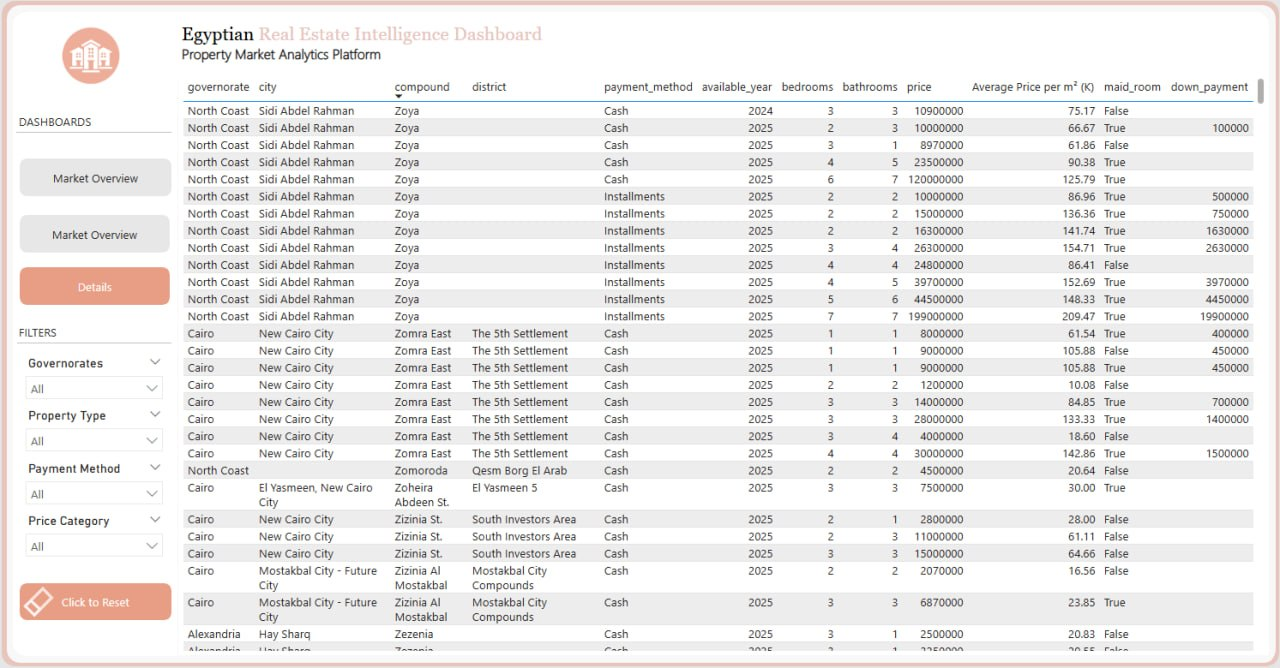

What the dashboard file says about the page in this screenshot:
{"tool":"powerbi","page":{"name":"Details","canvas":[1520,800],"ordinal":2},"visuals":[{"type":"shape","box":[17.2,10.3,1489.7,777],"z":0},{"type":"shape","box":[23,14.9,1480.5,767.8],"z":1000},{"type":"shape","box":[29.9,23,1465.5,751.7],"z":2000},{"type":"shape","box":[221.9,95.1,1279,687.5],"z":3000},{"type":"image","box":[37.9,32.2,174.7,87.4],"z":7000},{"type":"textbox","box":[221.9,31.4,521.2,63.8],"z":13000},{"type":"textbox","box":[32.2,136.8,300,48.3],"z":14000},{"type":"shape","box":[34.5,75.9,180.5,174.7],"z":15000},{"type":"textbox","box":[32.2,382.8,300,48.3],"z":16000},{"type":"shape","box":[34.5,321.8,180.5,174.7],"z":17000},{"type":"pageNavigator","box":[37.5,193.8,177.5,43.8],"z":18000},{"type":"pageNavigator","box":[37.5,321.2,175,43.8],"z":19000},{"type":"actionButton","box":[37.5,690,177.5,42.5],"z":20000},{"type":"slicer","fields":{"Values":["dim_location.governorate"]},"box":[35,420,180,61.2],"z":35000},{"type":"slicer","fields":{"Values":["dim_property.type"]},"box":[35,481.2,180,61.2],"z":36000},{"type":"slicer","fields":{"Values":["dim_payment.payment_method"]},"box":[35,542.5,180,61.2],"z":37000},{"type":"slicer","fields":{"Values":["dim_property.price_category"]},"box":[35,603.8,180,61.2],"z":38000},{"type":"tableEx","fields":{"Values":["dim_location.governorate","dim_location.city","dim_location.compound","dim_location.district","dim_payment.payment_method","dim_date.available_year","fact_property.bedrooms","fact_property.bathrooms","fact_property.price","_measure.Average Price per m² (K)","fact_property.maid_room","fact_property.down_payment"]},"box":[222.5,95,1272.5,678.8],"z":38001},{"type":"pageNavigator","box":[37.5,260,175,43.8],"z":38002}]}

Visuals, with their boxes on the page's 1520x800 design canvas (x1, y1, x2, y2). These are canvas units, not pixel positions in the 1280x668 screenshot, which may show the page scaled, cropped or inside an application window:
shape: (x1=17, y1=10, x2=1507, y2=787)
shape: (x1=23, y1=15, x2=1504, y2=783)
shape: (x1=30, y1=23, x2=1495, y2=775)
shape: (x1=222, y1=95, x2=1501, y2=783)
image: (x1=38, y1=32, x2=213, y2=120)
textbox: (x1=222, y1=31, x2=743, y2=95)
textbox: (x1=32, y1=137, x2=332, y2=185)
shape: (x1=34, y1=76, x2=215, y2=251)
textbox: (x1=32, y1=383, x2=332, y2=431)
shape: (x1=34, y1=322, x2=215, y2=496)
pageNavigator: (x1=38, y1=194, x2=215, y2=238)
pageNavigator: (x1=38, y1=321, x2=212, y2=365)
actionButton: (x1=38, y1=690, x2=215, y2=732)
slicer - dim_location.governorate: (x1=35, y1=420, x2=215, y2=481)
slicer - dim_property.type: (x1=35, y1=481, x2=215, y2=542)
slicer - dim_payment.payment_method: (x1=35, y1=542, x2=215, y2=604)
slicer - dim_property.price_category: (x1=35, y1=604, x2=215, y2=665)
tableEx - dim_location.governorate x dim_location.city: (x1=222, y1=95, x2=1495, y2=774)
pageNavigator: (x1=38, y1=260, x2=212, y2=304)
